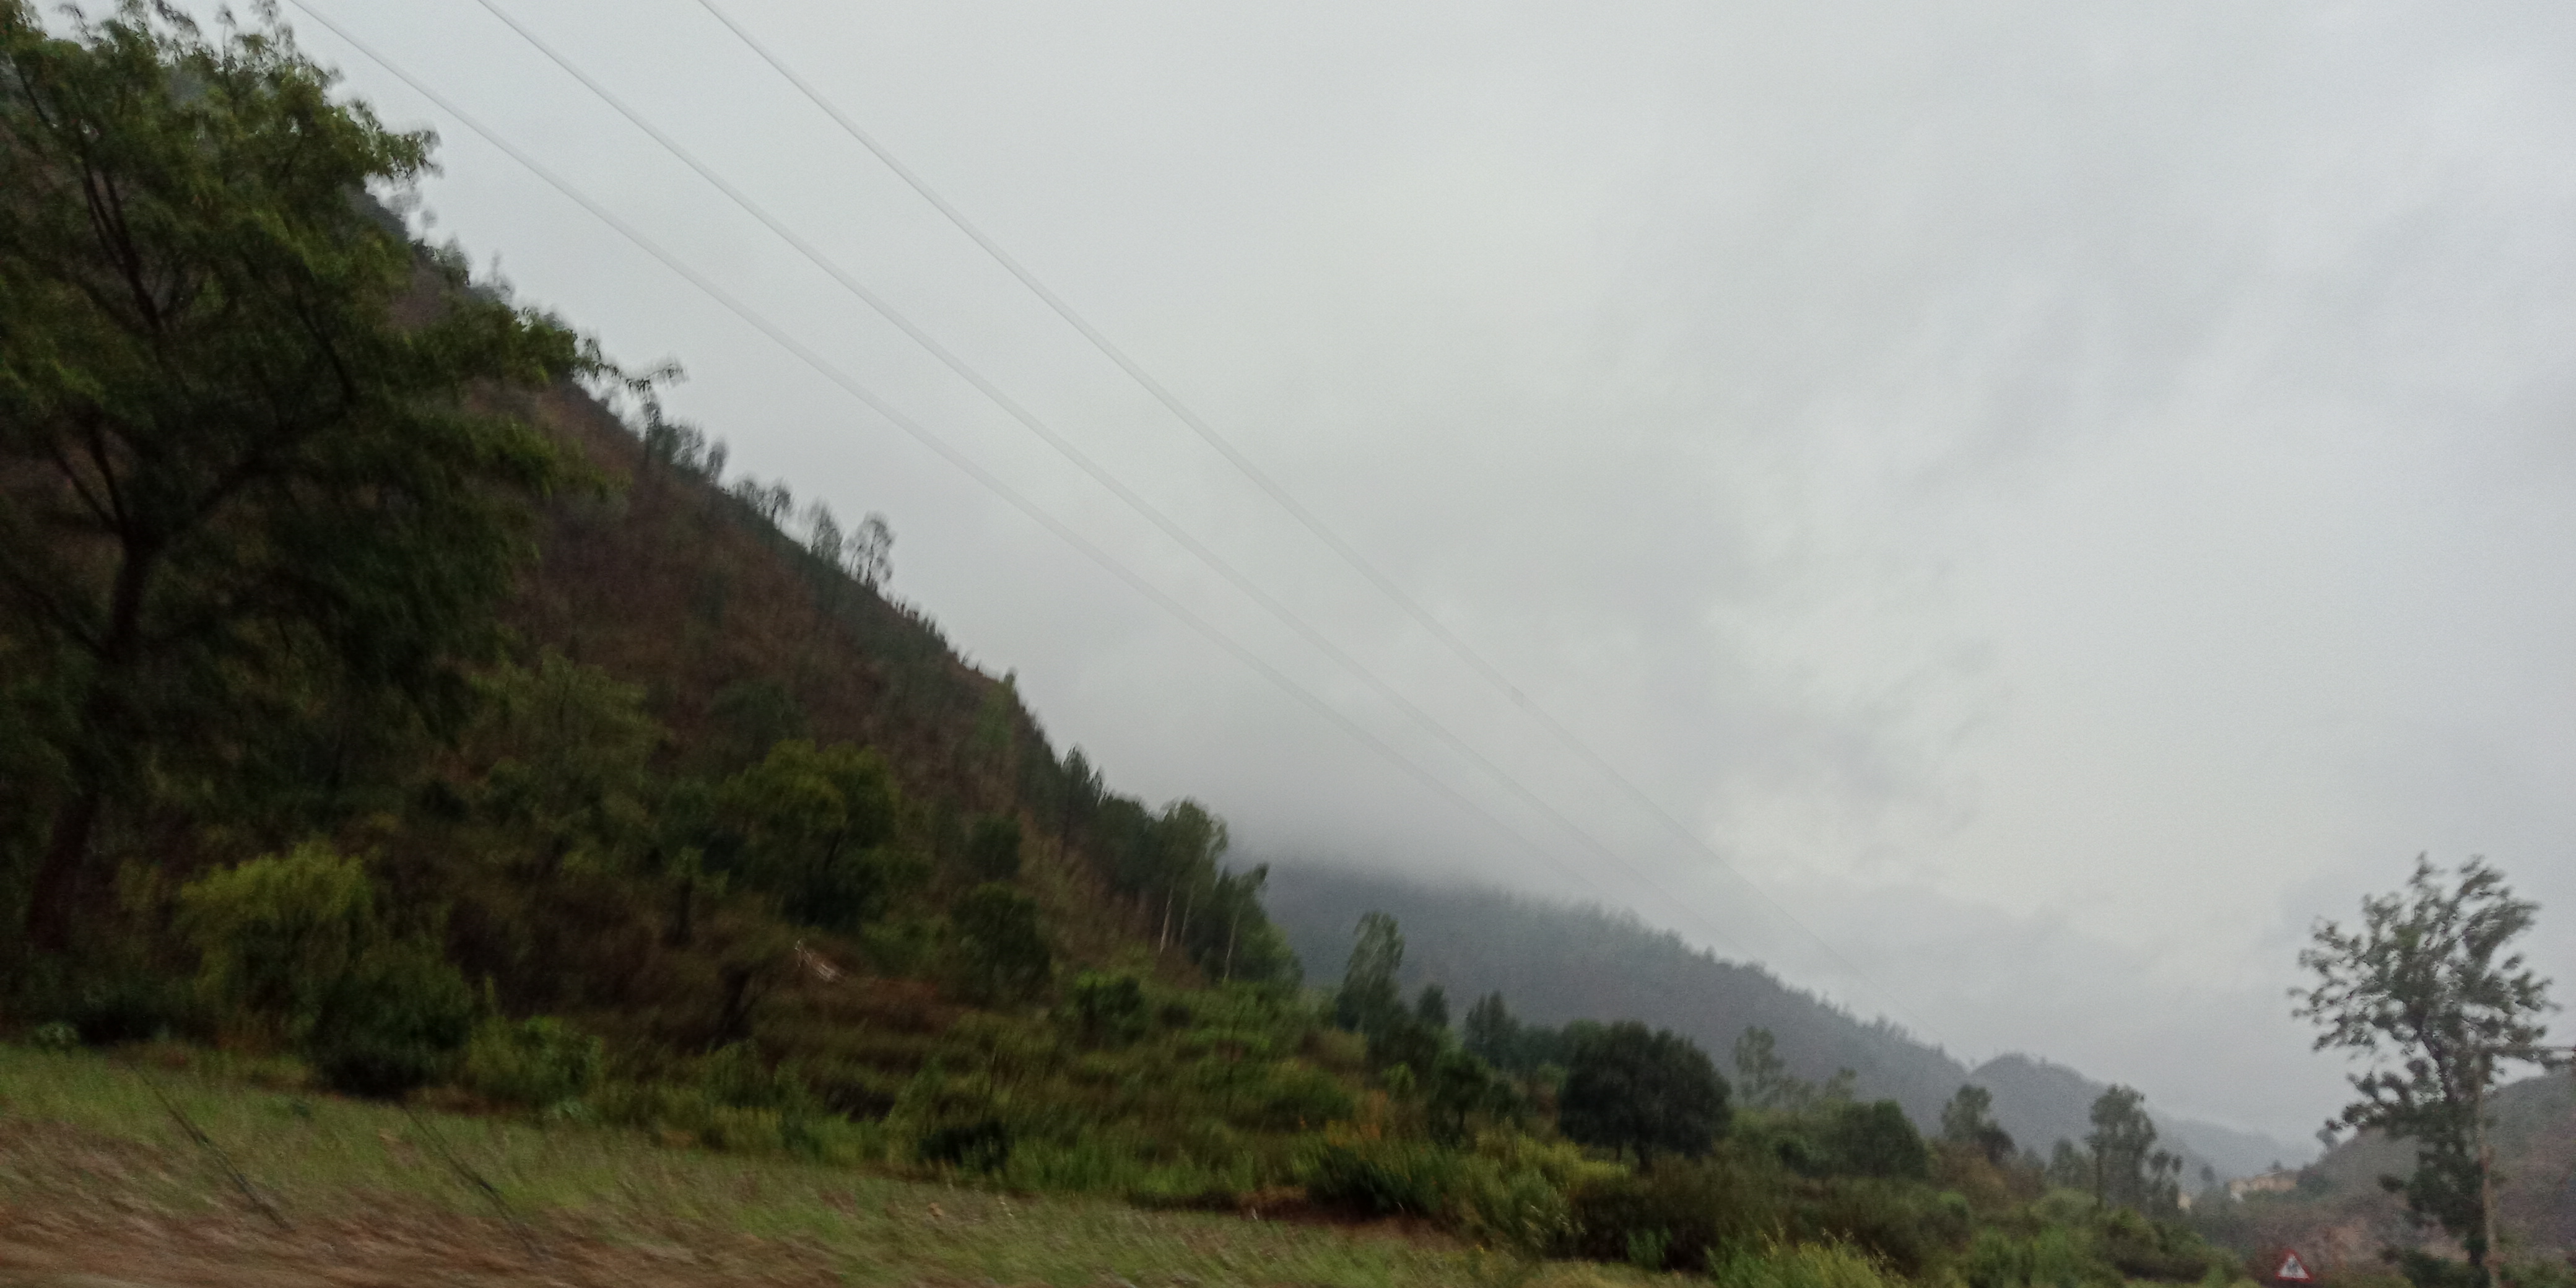traffic_sign: (2274, 1249, 2311, 1283)
